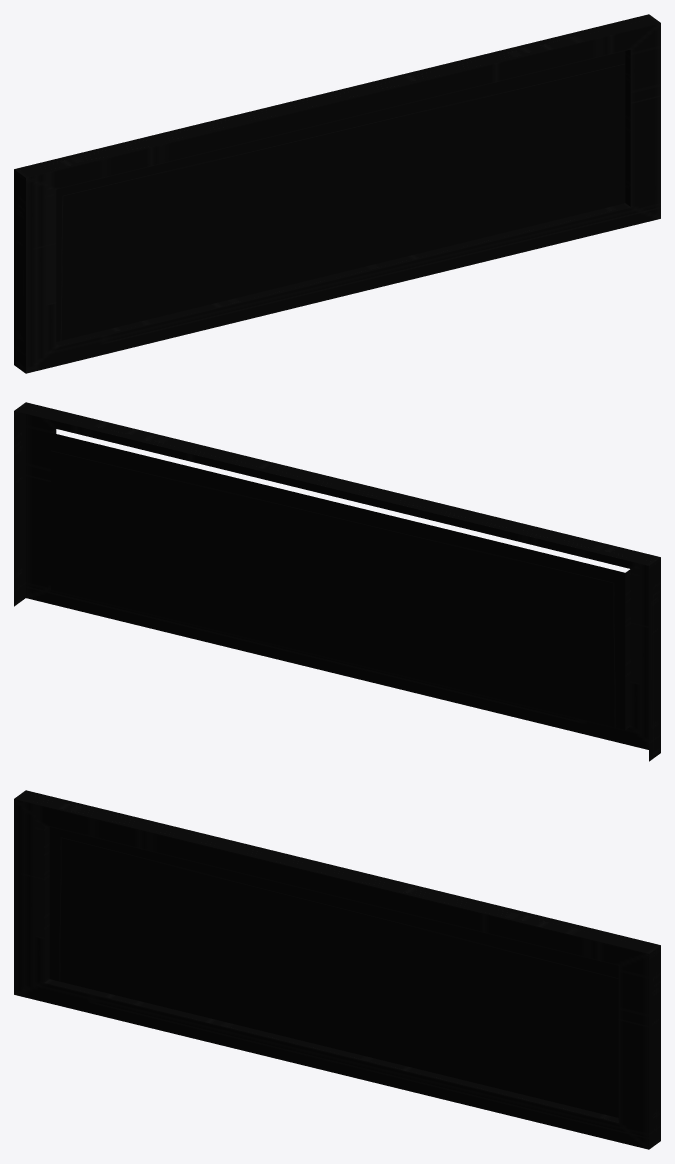
The picture shows the model from 3 angles, top to bottom: view 1: azimuth 30°, elevation 25°; view 2: azimuth 150°, elevation 25°; view 3: azimuth 330°, elevation 25°; orthographic projection.
Visible parts, largest first — view 1: TV; view 2: TV; view 3: TV.
Boxes of the visible parts, x1,y1,x2,y2 form: TV: (14, 14, 660, 373); TV: (14, 402, 660, 761); TV: (14, 790, 660, 1149).
Bounding box in the file's own units: 3.04 × 0.8953 × 0.0984.
